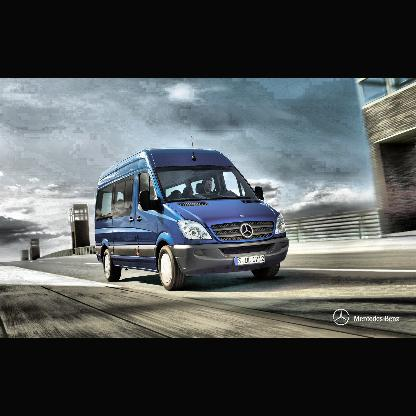Mercedes-Benz Sprinter Van 2012: (94, 136, 290, 292)
